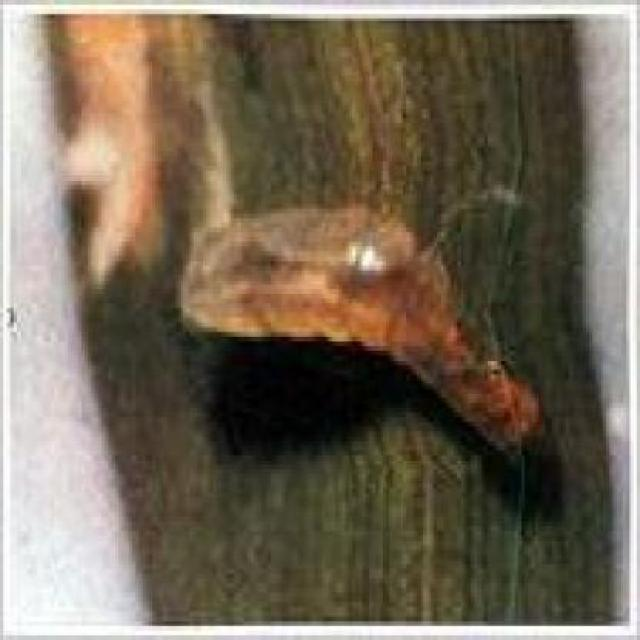whorl-maggot: (176, 203, 539, 461)
